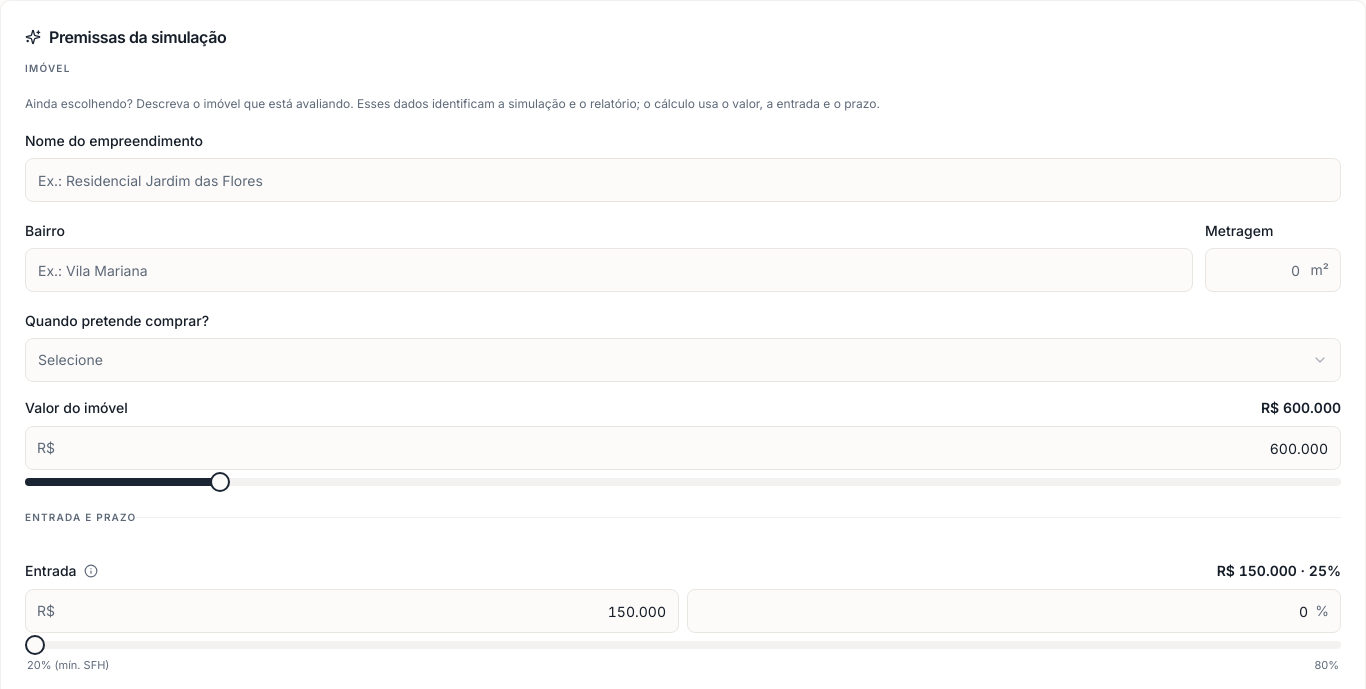
Test: FinancingSimulator · modo busca › leva os dados do imóvel para o snapshot e mostra o preço por m²
This screenshot has width=1366, height=689.
Type "  Residencial Aurora " into the field labelled "Nome do empreendimento" at (683, 180), box [25,158,1341,202]
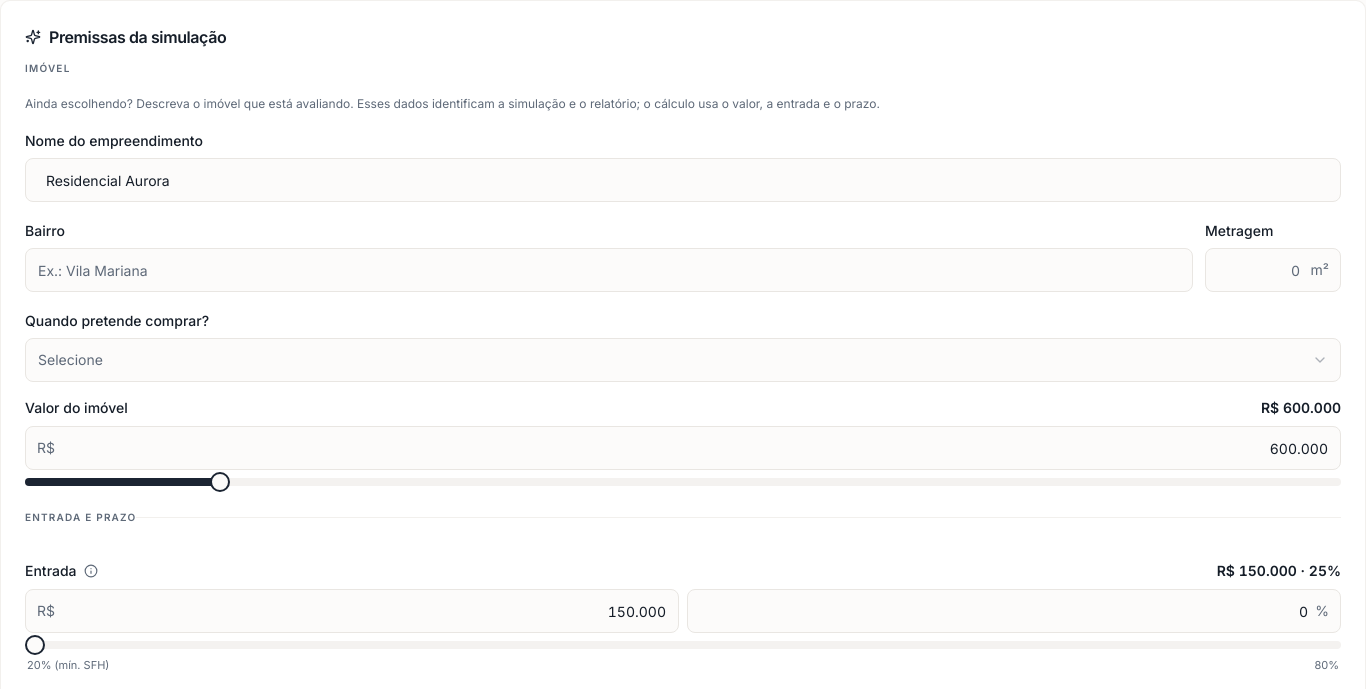
Type "Saúde" into the field labelled "Bairro" at (609, 270), box [25,248,1193,292]
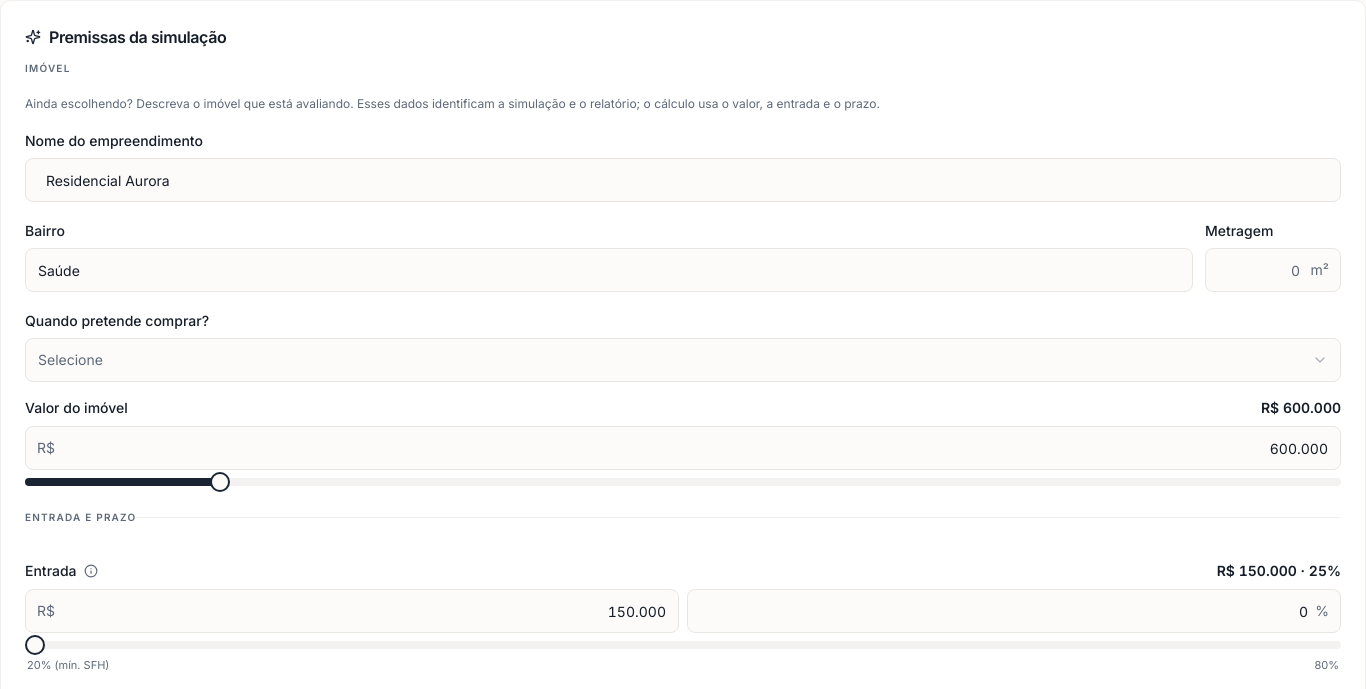
Type "30" into the field labelled "Metragem" at (1273, 270), box [1205,248,1341,292]
Wait 200 ms
(page scrolled)
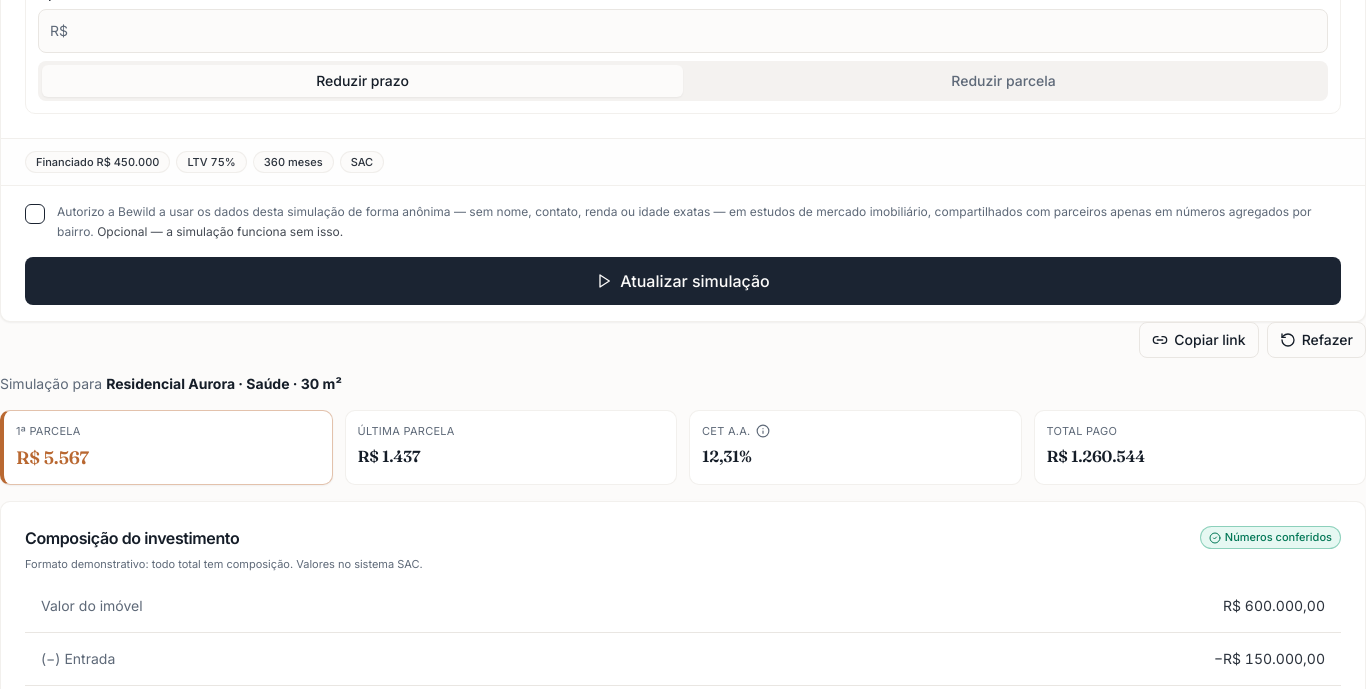
Expected: the text "Simulação para Residencial Aurora · Saúde · 30 m²" is shown, [0,375,342,392]
